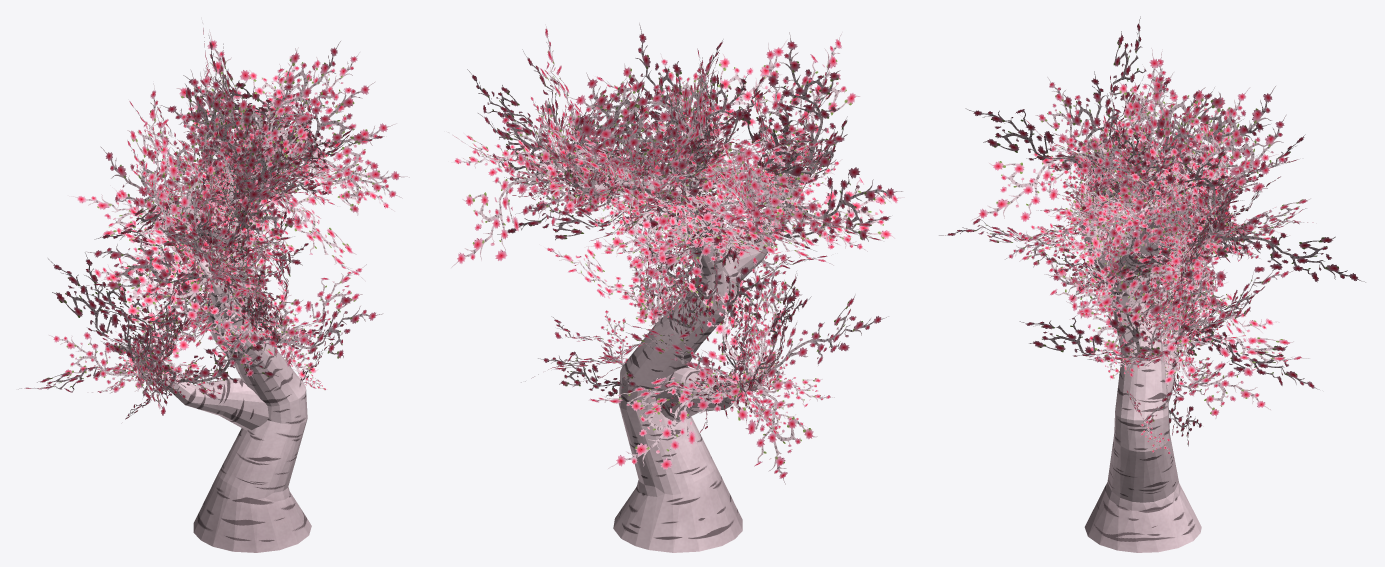
Rendered from Trees.fbx.
3 renders of one model, left to right at view 1: azimuth 30°, elevation 25°; view 2: azimuth 150°, elevation 25°; view 3: azimuth 270°, elevation 25°, orthographic. The views are drawn at different scales.
Parts seen in each view (by area): view 1: Tree 1, Tree 1|Branch|Dupli|235, Tree 1|Branch|Dupli|241, Tree 1|Branch|Dupli|225, Tree 1|Branch|Dupli|184, Tree 1|Branch|Dupli|293, Tree 1|Branch|Dupli|99, Tree 1|Branch|Dupli|282, Tree 1|Branch|Dupli|258, Tree 1|Branch|Dupli|120, Tree 1|Branch|Dupli|242, Tree 1|Branch|Dupli|42 (+51 smaller); view 2: Tree 1, Tree 1|Branch|Dupli|281, Tree 1|Branch|Dupli|38, Tree 1|Branch|Dupli|225, Tree 1|Branch|Dupli|152, Tree 1|Branch|Dupli|284, Tree 1|Branch|Dupli|235, Tree 1|Branch|Dupli|149, Tree 1|Branch|Dupli|215, Tree 1|Branch|Dupli|84, Tree 1|Branch|Dupli|273, Tree 1|Branch|Dupli|47 (+50 smaller); view 3: Tree 1, Tree 1|Branch|Dupli|38, Tree 1|Branch|Dupli|223, Tree 1|Branch|Dupli|289, Tree 1|Branch|Dupli|102, Tree 1|Branch|Dupli|149, Tree 1|Branch|Dupli|217, Tree 1|Branch|Dupli|296, Tree 1|Branch|Dupli|103, Tree 1|Branch|Dupli|84, Tree 1|Branch|Dupli|281, Tree 1|Branch|Dupli|109 (+38 smaller).
Boxes of the visible parts, <box> form: Tree 1: <box>134,142,311,552</box>; Tree 1|Branch|Dupli|235: <box>86,235,223,297</box>; Tree 1|Branch|Dupli|241: <box>156,136,241,297</box>; Tree 1|Branch|Dupli|225: <box>127,83,183,232</box>; Tree 1|Branch|Dupli|184: <box>86,258,212,324</box>; Tree 1|Branch|Dupli|293: <box>275,296,383,368</box>; Tree 1|Branch|Dupli|99: <box>276,81,375,178</box>; Tree 1|Branch|Dupli|282: <box>48,258,159,372</box>; Tree 1|Branch|Dupli|258: <box>160,331,283,400</box>; Tree 1|Branch|Dupli|120: <box>257,41,340,169</box>; Tree 1|Branch|Dupli|242: <box>196,289,259,380</box>; Tree 1|Branch|Dupli|42: <box>292,134,402,215</box>; Tree 1: <box>551,120,818,552</box>; Tree 1|Branch|Dupli|281: <box>608,366,747,469</box>; Tree 1|Branch|Dupli|38: <box>451,146,560,267</box>; Tree 1|Branch|Dupli|225: <box>768,32,847,169</box>; Tree 1|Branch|Dupli|152: <box>702,146,823,232</box>; Tree 1|Branch|Dupli|284: <box>728,366,817,484</box>; Tree 1|Branch|Dupli|235: <box>778,167,902,245</box>; Tree 1|Branch|Dupli|149: <box>567,63,707,157</box>; Tree 1|Branch|Dupli|215: <box>639,172,783,280</box>; Tree 1|Branch|Dupli|84: <box>581,72,666,195</box>; Tree 1|Branch|Dupli|273: <box>762,294,888,388</box>; Tree 1|Branch|Dupli|47: <box>561,93,683,188</box>; Tree 1: <box>1079,136,1222,552</box>; Tree 1|Branch|Dupli|38: <box>1208,215,1365,282</box>; Tree 1|Branch|Dupli|223: <box>971,132,1110,221</box>; Tree 1|Branch|Dupli|289: <box>1162,335,1270,418</box>; Tree 1|Branch|Dupli|102: <box>1075,238,1219,326</box>; Tree 1|Branch|Dupli|149: <box>1139,93,1270,177</box>; Tree 1|Branch|Dupli|217: <box>965,108,1106,177</box>; Tree 1|Branch|Dupli|296: <box>1107,240,1168,356</box>; Tree 1|Branch|Dupli|103: <box>1205,114,1286,235</box>; Tree 1|Branch|Dupli|84: <box>1177,86,1275,212</box>; Tree 1|Branch|Dupli|281: <box>1179,321,1319,389</box>; Tree 1|Branch|Dupli|109: <box>1079,183,1210,256</box>.
Bounding box in the file's own units: 394 × 503 × 426.
